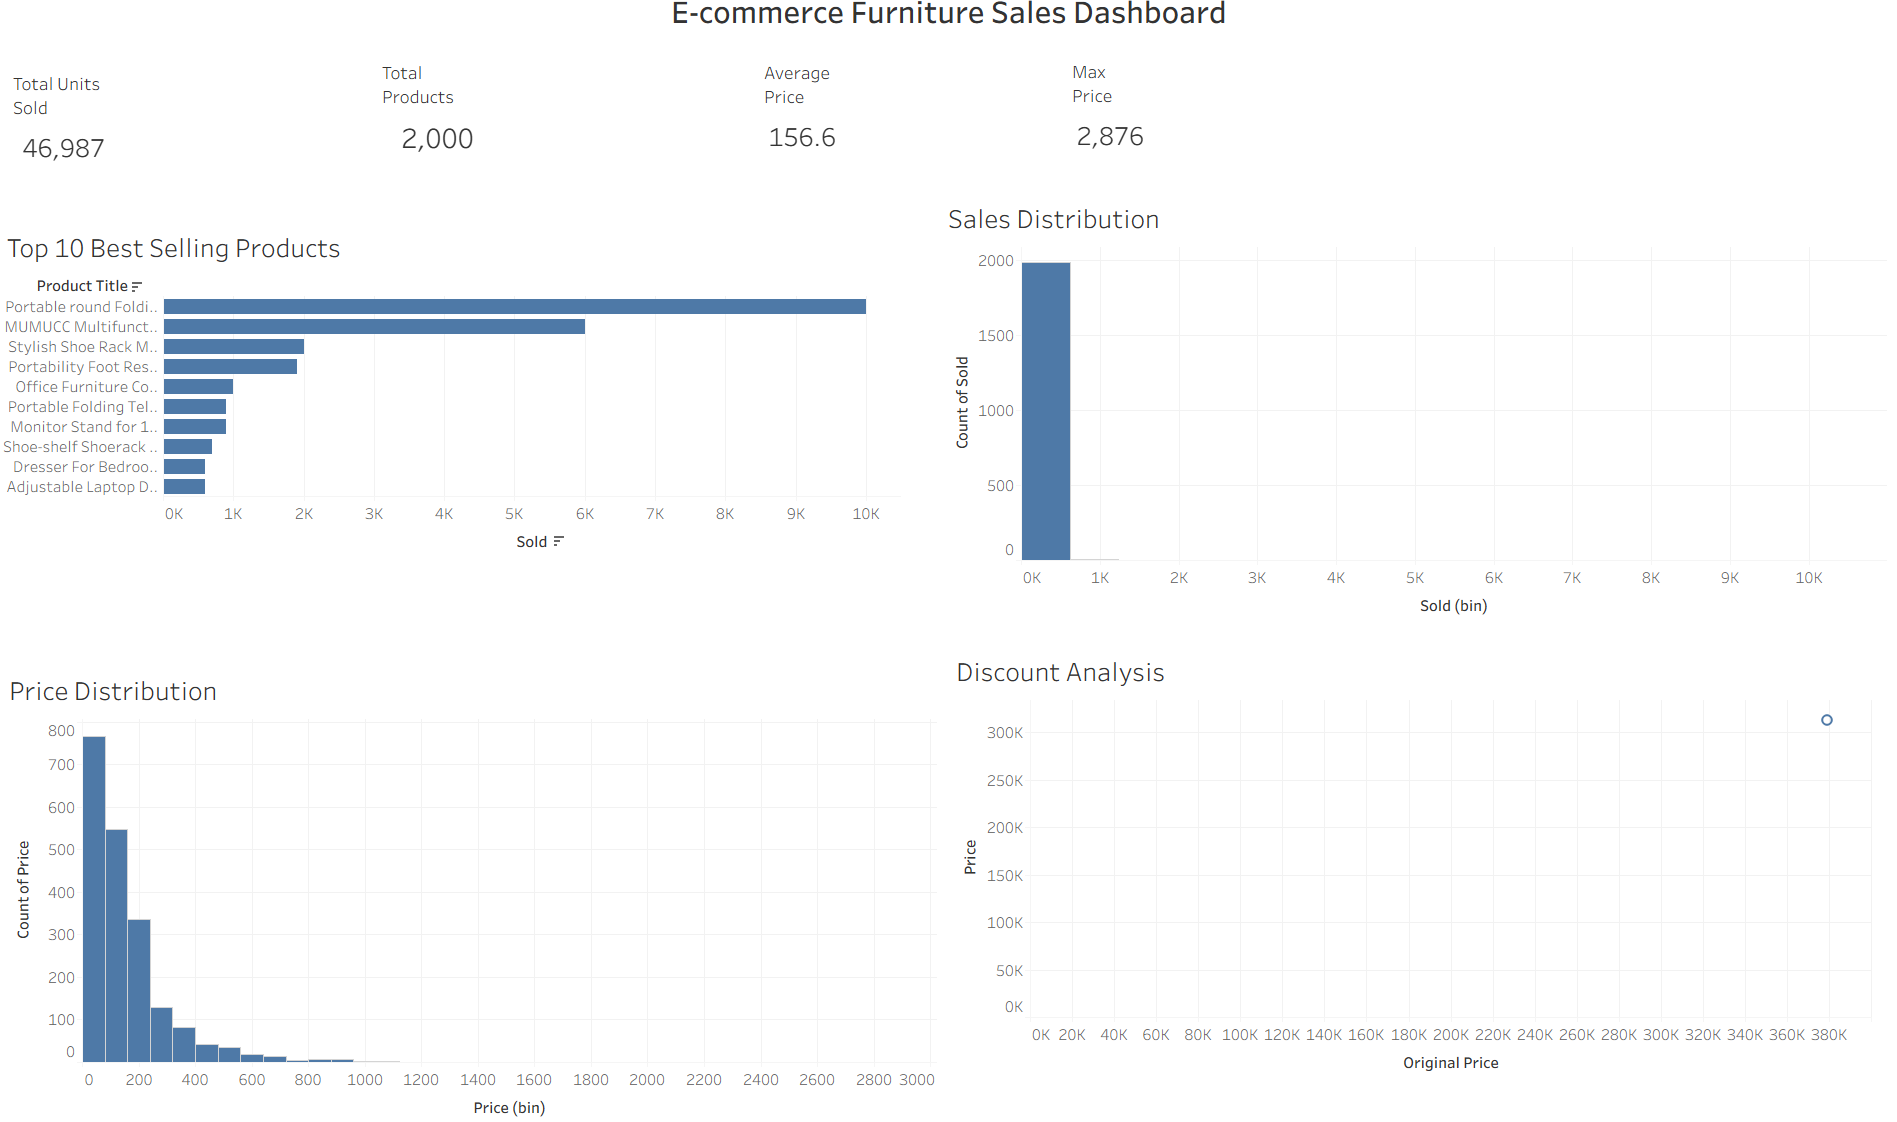

This screenshot's page, from the dashboard's own definition file:
{"tool":"tableau","page":{"name":"E-commerce Furniture Sales Dashboard","canvas":[1000,1000],"units":"permille","ordinal":0},"visuals":[{"type":"title","box":[4.8,8.2,990.3,50.5]},{"type":"worksheet","title":"Max Price","mark":"Automatic","box":[561.9,65.9,190.7,111.2]},{"type":"worksheet","title":"Total Products","mark":"Automatic","box":[202.8,66.9,236,113.3]},{"type":"worksheet","title":"Average Price","mark":"Automatic","box":[401.3,66.9,203.4,114.3]},{"type":"worksheet","title":"Total Units Sold","mark":"Automatic","box":[10.3,76.2,187.7,124.6]},{"type":"worksheet","title":"Sales Distribution","mark":"Automatic","rows":["sold"],"cols":["Sold (bin)"],"box":[497.3,188.5,491.2,366.6]},{"type":"worksheet","title":"Top 10 Best Selling Products","mark":"Automatic","rows":["productTitle"],"cols":["sold"],"box":[7.2,213.2,467.7,381.1]},{"type":"worksheet","title":"Discount Analysis","mark":"Automatic","rows":["price"],"cols":["originalPrice"],"box":[501.5,577.8,479.2,369.7]},{"type":"worksheet","title":"Price Distribution","mark":"Automatic","rows":["price"],"box":[8.4,594.2,485.2,392.4]}]}

Visuals, with their boxes on the dashboard's canvas, which has no fixed pixel size, in thousandths of its width and height (x1, y1, x2, y2). These are canvas units, not pixel positions in the 1897x1122 screenshot, which may show the page scaled, cropped or inside an application window:
title: {"x1": 5, "y1": 8, "x2": 995, "y2": 59}
"Max Price" worksheet: {"x1": 562, "y1": 66, "x2": 753, "y2": 177}
"Total Products" worksheet: {"x1": 203, "y1": 67, "x2": 439, "y2": 180}
"Average Price" worksheet: {"x1": 401, "y1": 67, "x2": 605, "y2": 181}
"Total Units Sold" worksheet: {"x1": 10, "y1": 76, "x2": 198, "y2": 201}
"Sales Distribution" worksheet: {"x1": 497, "y1": 188, "x2": 988, "y2": 555}
"Top 10 Best Selling Products" worksheet: {"x1": 7, "y1": 213, "x2": 475, "y2": 594}
"Discount Analysis" worksheet: {"x1": 502, "y1": 578, "x2": 981, "y2": 948}
"Price Distribution" worksheet: {"x1": 8, "y1": 594, "x2": 494, "y2": 987}
